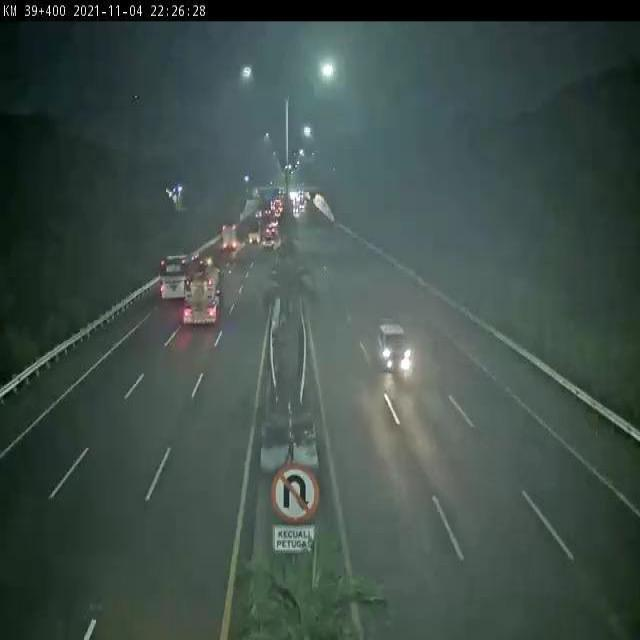car: (376, 321, 417, 380), (260, 233, 277, 251)
truck: (183, 261, 226, 323), (160, 252, 193, 301), (220, 226, 241, 250), (247, 220, 265, 247)
